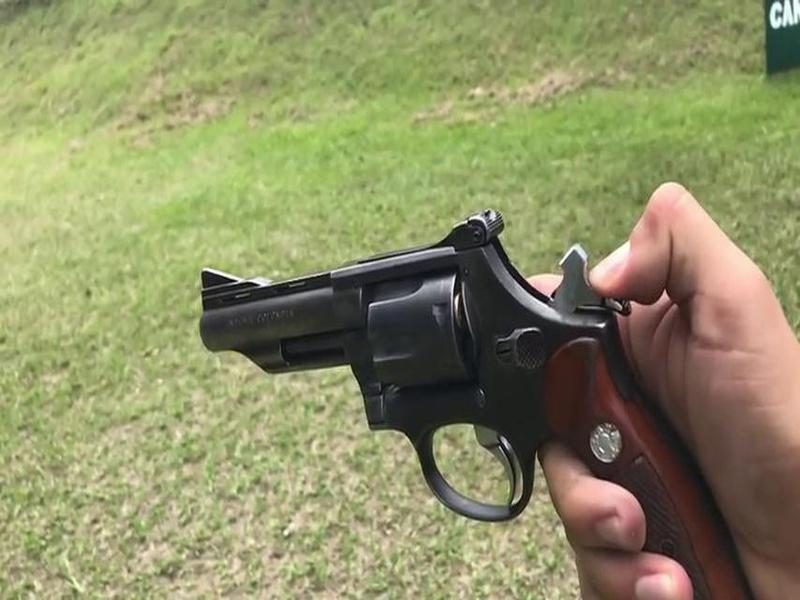Revolver: (206, 185, 661, 577)
